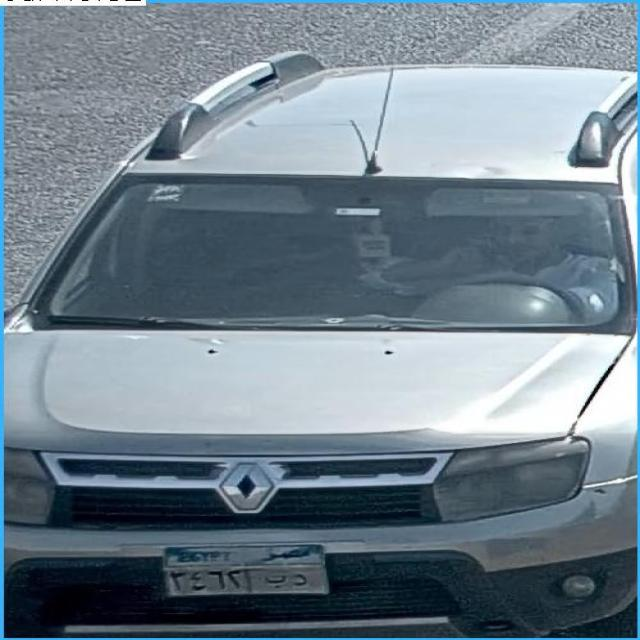No-seat-belt: (449, 189, 631, 326)
